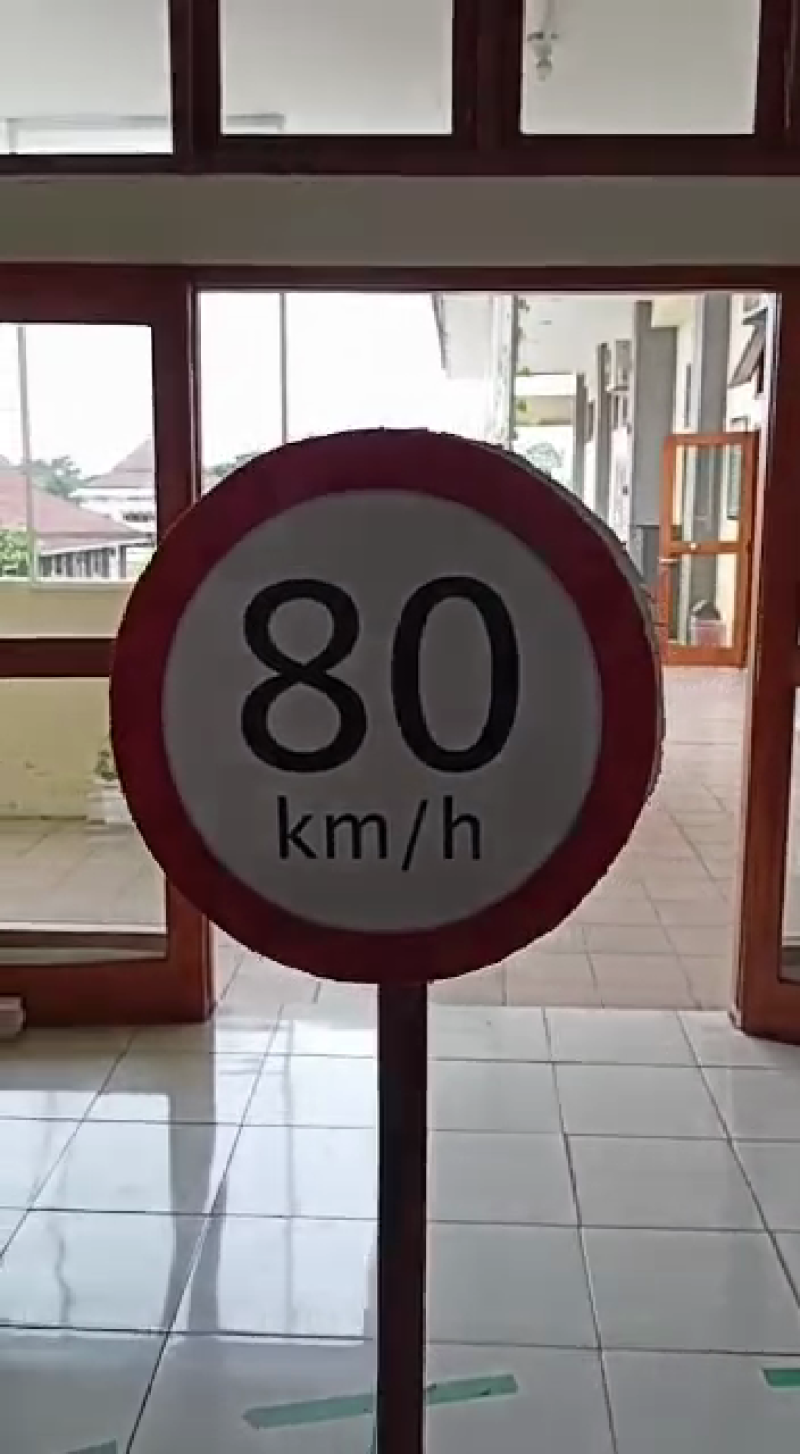batas maksimal 80kmperjam: (76, 411, 665, 999)
